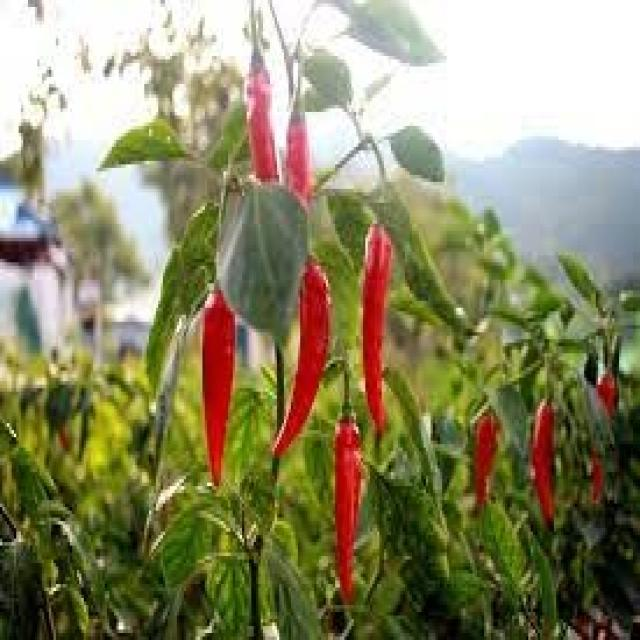Mosaic_virus: (139, 5, 457, 612)
